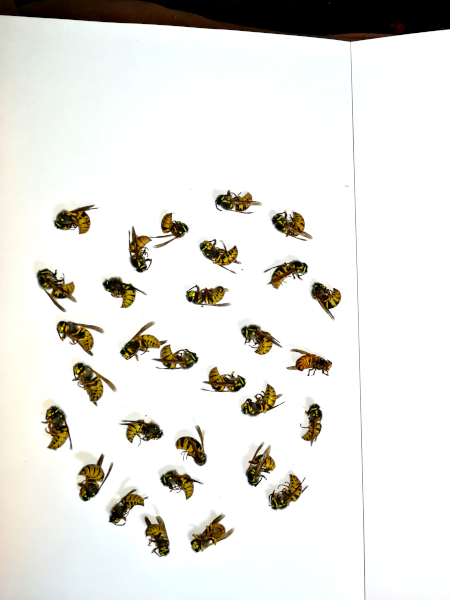chax: (66, 449, 123, 504), (259, 467, 314, 521), (31, 261, 84, 315), (228, 319, 287, 366), (65, 359, 121, 407), (35, 400, 81, 456), (51, 317, 106, 363), (266, 200, 322, 245), (236, 378, 293, 421), (47, 193, 98, 241), (185, 510, 239, 555), (151, 464, 210, 505), (176, 278, 237, 317), (171, 427, 219, 475), (114, 321, 163, 368), (305, 273, 351, 323), (236, 439, 281, 490), (96, 270, 147, 313), (113, 414, 169, 453), (292, 393, 330, 449), (258, 253, 311, 293), (117, 226, 160, 275), (205, 185, 263, 220), (150, 206, 193, 253), (198, 232, 245, 273), (288, 343, 340, 380), (156, 340, 207, 373), (201, 362, 252, 395), (105, 489, 147, 529), (141, 511, 173, 562)
